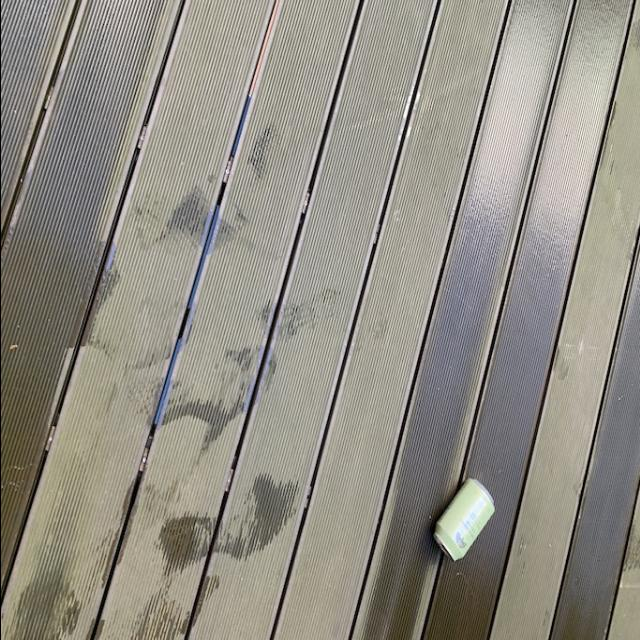litter: (428, 476, 493, 565)
